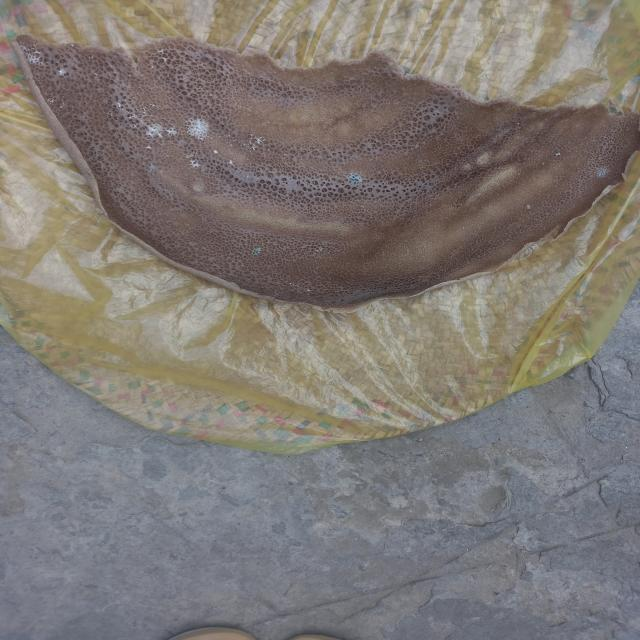injera_mold: (184, 118, 211, 139), (19, 45, 42, 65), (142, 122, 166, 140), (245, 134, 265, 150), (344, 172, 364, 183), (594, 165, 609, 179), (43, 94, 58, 106), (249, 246, 264, 257), (140, 101, 148, 118), (189, 159, 202, 169), (56, 69, 69, 77), (166, 128, 179, 136), (147, 163, 157, 173), (210, 146, 220, 156), (115, 100, 125, 110), (304, 286, 315, 294), (313, 246, 327, 252), (287, 281, 299, 288), (154, 48, 168, 54), (524, 204, 534, 212), (229, 138, 242, 143), (92, 71, 99, 80), (145, 144, 155, 150), (227, 157, 233, 167), (160, 58, 170, 64), (127, 115, 140, 119), (553, 152, 563, 157), (128, 124, 137, 129), (34, 75, 40, 82), (149, 64, 155, 71), (150, 103, 158, 108), (220, 70, 226, 76), (130, 172, 136, 178), (59, 103, 62, 113), (115, 116, 120, 122), (605, 188, 610, 194), (223, 116, 230, 120), (281, 146, 290, 149), (46, 61, 51, 66), (127, 74, 132, 79), (205, 244, 210, 249), (42, 82, 46, 88), (108, 112, 114, 116), (174, 108, 182, 111), (266, 120, 272, 124), (360, 206, 366, 210), (86, 56, 93, 59), (125, 110, 130, 114), (92, 95, 97, 99), (157, 142, 163, 145), (226, 135, 234, 137), (267, 147, 271, 151), (284, 100, 288, 104), (210, 250, 215, 253), (516, 122, 521, 125), (208, 93, 213, 96), (71, 44, 75, 47), (62, 63, 66, 66), (216, 164, 220, 167), (170, 183, 176, 185), (246, 175, 250, 178), (284, 153, 288, 156), (248, 151, 254, 153), (217, 135, 221, 138), (211, 242, 213, 248), (273, 71, 277, 74), (74, 85, 78, 88), (92, 61, 95, 65), (210, 138, 215, 140), (282, 158, 287, 160), (248, 164, 253, 166), (245, 158, 250, 160), (56, 61, 59, 64), (239, 105, 242, 108), (204, 111, 207, 114), (62, 102, 65, 105), (124, 64, 128, 66), (113, 71, 115, 75), (222, 172, 226, 174), (132, 96, 134, 100), (109, 66, 113, 68), (97, 88, 99, 92), (35, 86, 39, 88), (109, 96, 116, 97), (212, 132, 215, 134), (293, 132, 296, 134), (236, 119, 238, 122), (248, 72, 251, 74), (71, 100, 74, 102), (54, 64, 57, 66), (68, 58, 70, 61), (230, 144, 232, 146), (162, 77, 164, 79), (94, 84, 96, 86), (36, 70, 38, 72), (32, 41, 36, 42), (100, 60, 102, 62), (110, 60, 112, 62), (62, 96, 65, 97), (39, 90, 40, 93), (71, 106, 73, 107), (56, 93, 58, 94), (24, 66, 26, 67), (64, 88, 65, 89), (81, 51, 82, 52), (60, 100, 61, 100)
